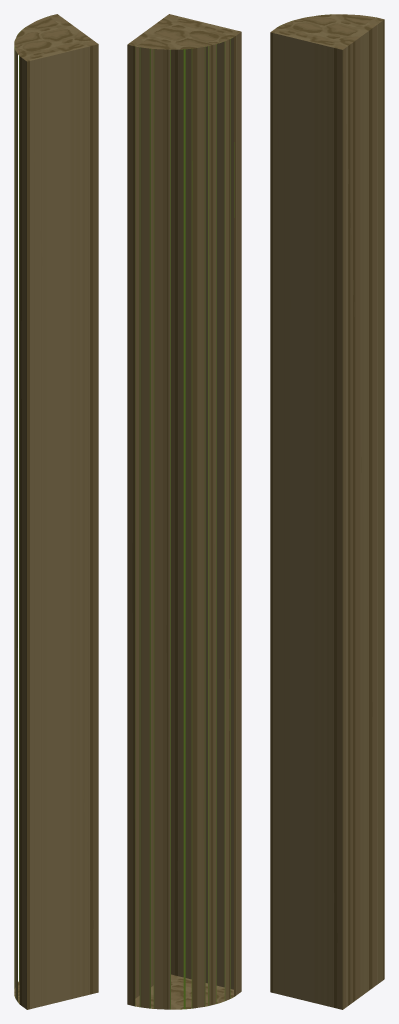
File: coinexterne.fbx
The picture shows the model from 3 angles, left to right: view 1: azimuth 30°, elevation 25°; view 2: azimuth 150°, elevation 25°; view 3: azimuth 330°, elevation 25°; orthographic projection.
Visible parts, largest first — view 1: CoinExtern; view 2: CoinExtern; view 3: CoinExtern.
Boxes of the visible parts, x1,y1,x2,y2 form: CoinExtern: [14, 14, 98, 1009]; CoinExtern: [127, 14, 241, 1009]; CoinExtern: [270, 14, 384, 1009].
Size of the model in its own units: 100 by 1266 by 100.
